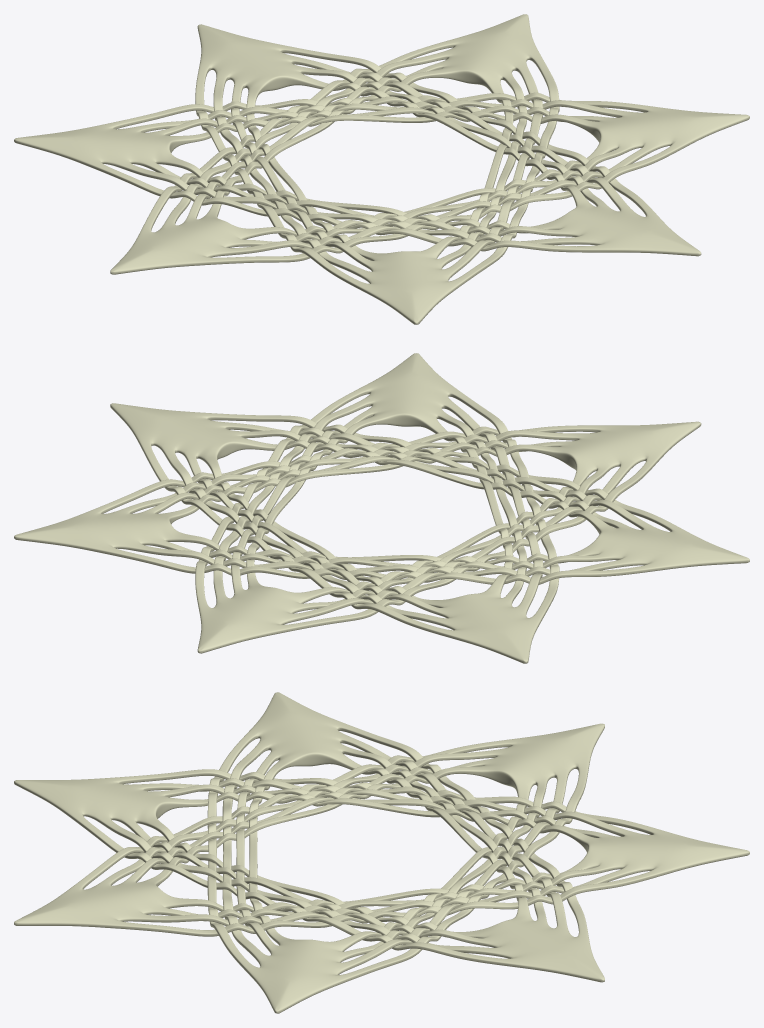
The model's file is heptagono3d3.glb.
3 renders of one model, top to bottom at view 1: azimuth 30°, elevation 25°; view 2: azimuth 150°, elevation 25°; view 3: azimuth 270°, elevation 25°, orthographic. The views are drawn at different scales.
Visible parts, largest first — view 1: Fleur7petales_0; view 2: Fleur7petales_0; view 3: Fleur7petales_0.
Part boxes in pixels (<box>): Fleur7petales_0: <box>14,14,749,324</box>; Fleur7petales_0: <box>14,353,749,663</box>; Fleur7petales_0: <box>14,692,749,1013</box>.
Bounding box in the file's own units: 9.42 × 0.1875 × 9.19.
